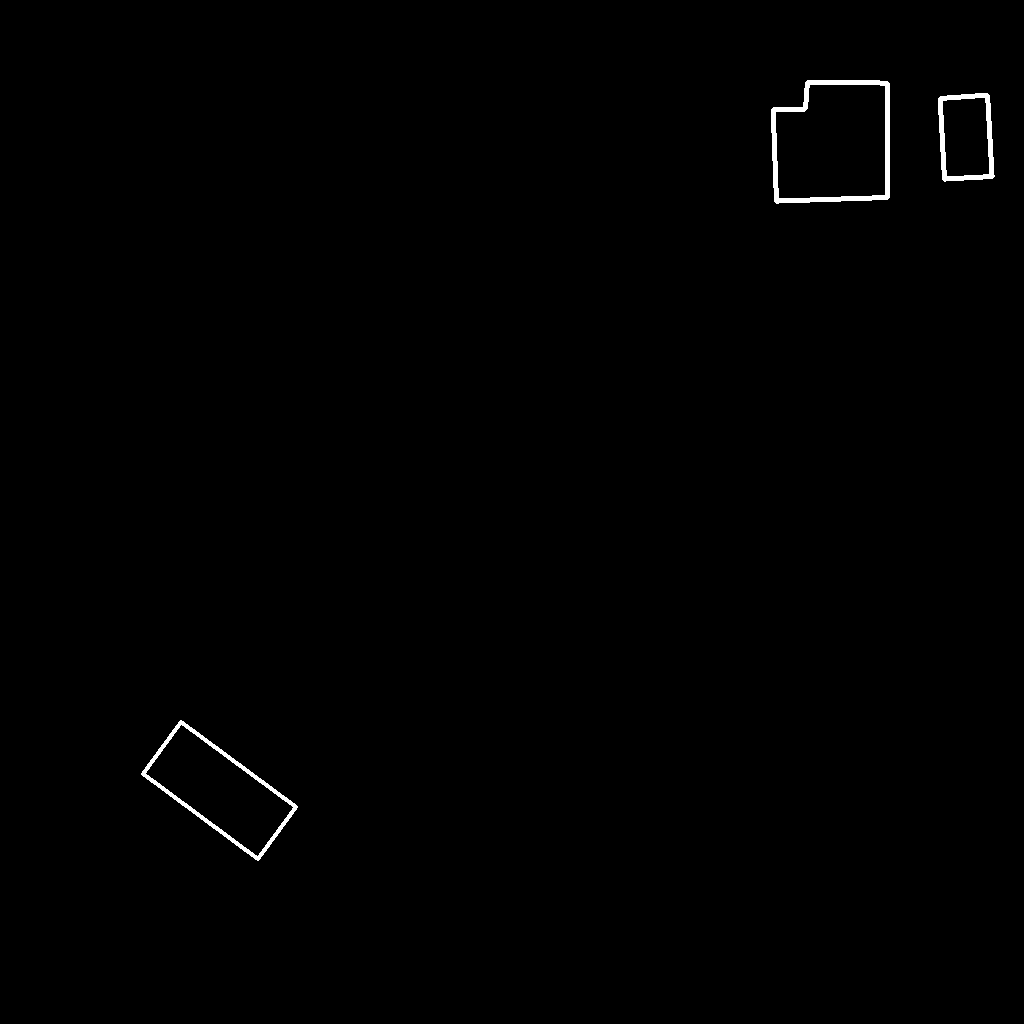building: (143, 722, 297, 860), (773, 82, 889, 202), (940, 95, 993, 180)
